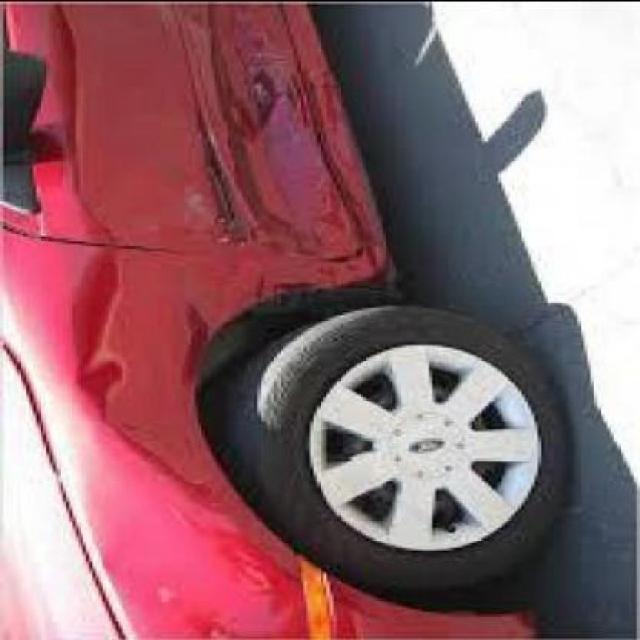damage: (71, 4, 379, 518)
